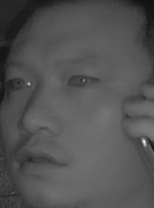eye: (66, 71, 99, 91), (5, 74, 36, 92)
mouth: (11, 138, 72, 183)
